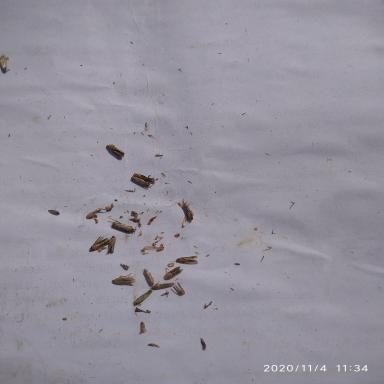pbw: (108, 218, 138, 234), (132, 289, 152, 305), (90, 236, 110, 251), (106, 144, 125, 159), (164, 266, 183, 280), (182, 198, 194, 220), (111, 274, 136, 284), (170, 256, 199, 264), (150, 281, 175, 290), (131, 176, 150, 187), (133, 173, 155, 182), (106, 236, 116, 255), (143, 269, 154, 285), (86, 209, 102, 219), (0, 56, 7, 71), (140, 322, 146, 334), (131, 211, 139, 218), (48, 209, 59, 214), (1, 54, 9, 59)
